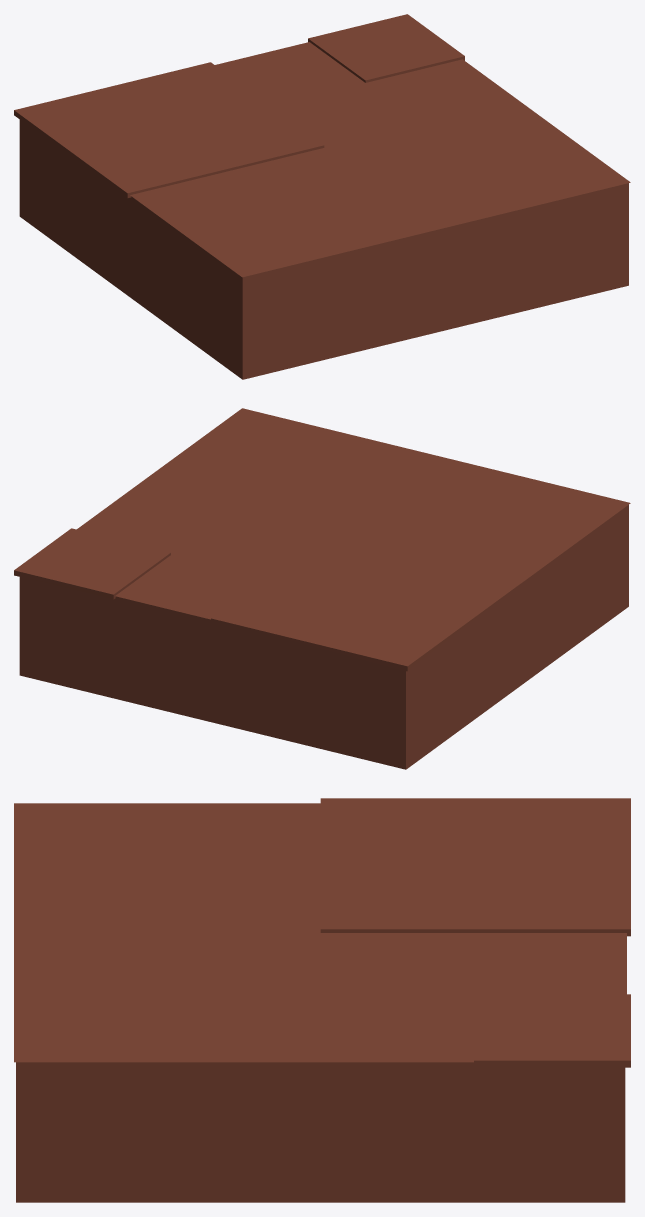
Rendered from PolPadaetBLin.fbx.
3 views of the same model, one above another, from view 1: azimuth 30°, elevation 25°; view 2: azimuth 150°, elevation 25°; view 3: azimuth 270°, elevation 25° (orthographic). The views are drawn at different scales.
Parts seen in each view (by area): view 1: Cube, Plane, Plane_cell.002, Plane_cell.001, Plane_cell, Plane_cell.003_cell, Plane_cell.003_cell.003, Plane_cell.003_cell.001; view 2: Cube, Plane, Plane_cell.002, Plane_cell, Plane_cell.001, Plane_cell.003_cell, Plane_cell.003_cell.001, Plane_cell.003_cell.003, Plane_cell.003_cell.002_cell.001; view 3: Plane, Cube, Plane_cell.002, Plane_cell, Plane_cell.001, Plane_cell.003_cell, Plane_cell.003_cell.001, Plane_cell.003_cell.003, Plane_cell.003_cell.002_cell.003, Plane_cell.003_cell.002_cell.001, Plane_cell.003_cell.002_cell_cell.001, Plane_cell.003_cell.002_cell.002_cell.001 (+3 smaller).
Boxes of the visible parts, bbox=[...] form: Cube: bbox=[19, 120, 628, 379]; Plane: bbox=[130, 42, 630, 277]; Plane_cell.002: bbox=[14, 62, 324, 198]; Plane_cell.001: bbox=[327, 100, 629, 228]; Plane_cell: bbox=[160, 148, 433, 276]; Plane_cell.003_cell: bbox=[308, 14, 464, 82]; Plane_cell.003_cell.003: bbox=[378, 59, 517, 123]; Plane_cell.003_cell.001: bbox=[216, 42, 363, 105]; Cube: bbox=[19, 505, 628, 769]; Plane: bbox=[77, 408, 630, 618]; Plane_cell.002: bbox=[211, 535, 521, 671]; Plane_cell: bbox=[327, 455, 629, 582]; Plane_cell.001: bbox=[132, 408, 435, 515]; Plane_cell.003_cell: bbox=[14, 528, 170, 599]; Plane_cell.003_cell.001: bbox=[115, 567, 264, 619]; Plane_cell.003_cell.003: bbox=[77, 498, 226, 543]; Plane_cell.003_cell.002_cell.001: bbox=[200, 514, 274, 546]; Plane: bbox=[14, 803, 626, 1062]; Cube: bbox=[16, 1062, 625, 1202]; Plane_cell.002: bbox=[320, 798, 630, 936]; Plane_cell: bbox=[14, 803, 320, 932]; Plane_cell.001: bbox=[14, 933, 320, 1062]; Plane_cell.003_cell: bbox=[474, 994, 630, 1067]; Plane_cell.003_cell.001: bbox=[474, 933, 626, 994]; Plane_cell.003_cell.003: bbox=[320, 997, 473, 1062]; Plane_cell.003_cell.002_cell.003: bbox=[397, 965, 473, 997]; Plane_cell.003_cell.002_cell.001: bbox=[320, 965, 396, 997]; Plane_cell.003_cell.002_cell_cell.001: bbox=[320, 949, 358, 965]; Plane_cell.003_cell.002_cell.002_cell.001: bbox=[397, 949, 435, 965].
Size of the model in its own units: 8.09 by 2.08 by 8.04.
